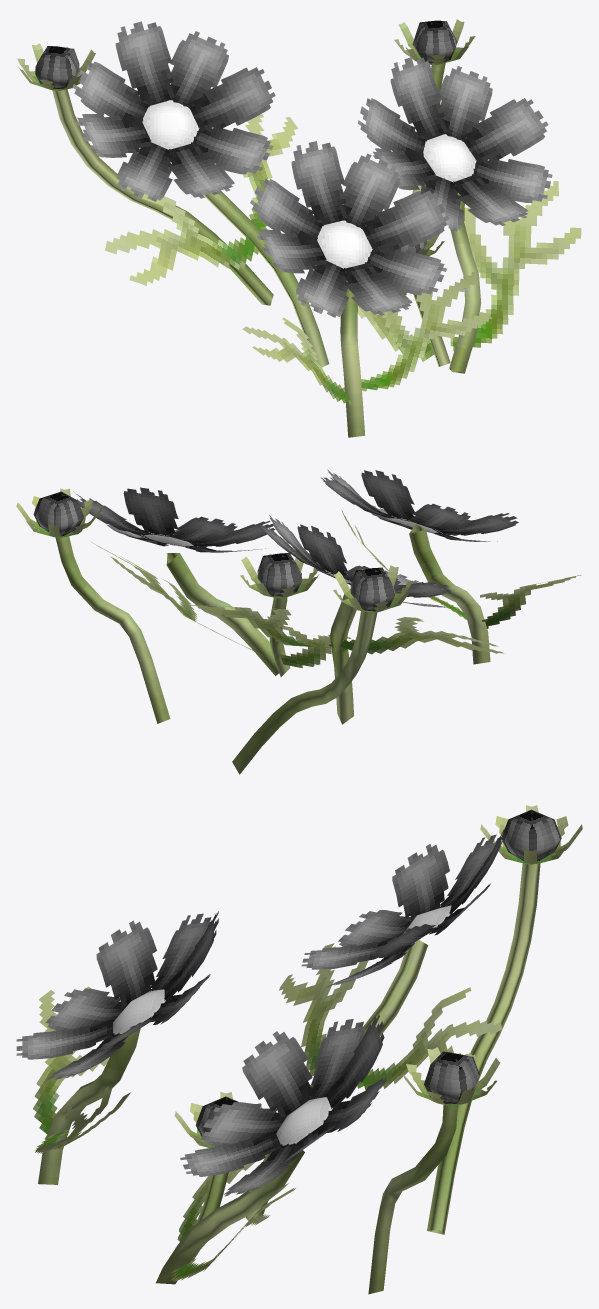
Rendered from flower-cosmos.glb.
3 renders of one model, top to bottom at view 1: azimuth 30°, elevation 25°; view 2: azimuth 150°, elevation 25°; view 3: azimuth 270°, elevation 25°, orthographic. The views are drawn at different scales.
Bounding box in the file's own units: 10.23 × 6.53 × 9.6.
2 materials, 2 textured.
